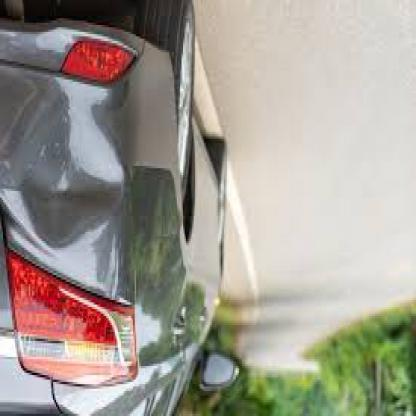dent: (18, 96, 126, 250)
